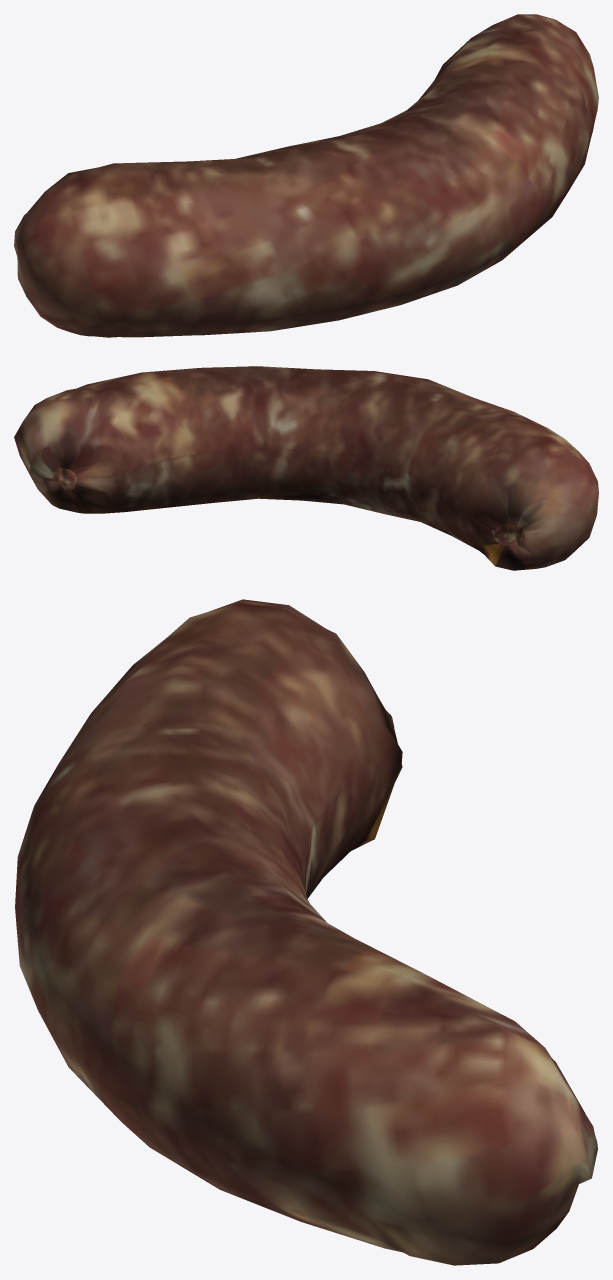
File: ref_sausage.glb
3 views of the same model, one above another, from view 1: azimuth 30°, elevation 25°; view 2: azimuth 150°, elevation 25°; view 3: azimuth 270°, elevation 25° (orthographic). The views are drawn at different scales.
Parts seen in each view (by area): view 1: ref_sausage_part0; view 2: ref_sausage_part0; view 3: ref_sausage_part0.
Boxes of the visible parts, left/top/right/bottom form: ref_sausage_part0: left=14, top=14, right=598, bottom=337; ref_sausage_part0: left=14, top=366, right=598, bottom=570; ref_sausage_part0: left=15, top=599, right=597, bottom=1265.
Size of the model in its own units: 1 by 0.2362 by 0.4963.
Materials: 1 (1 with a texture image).
